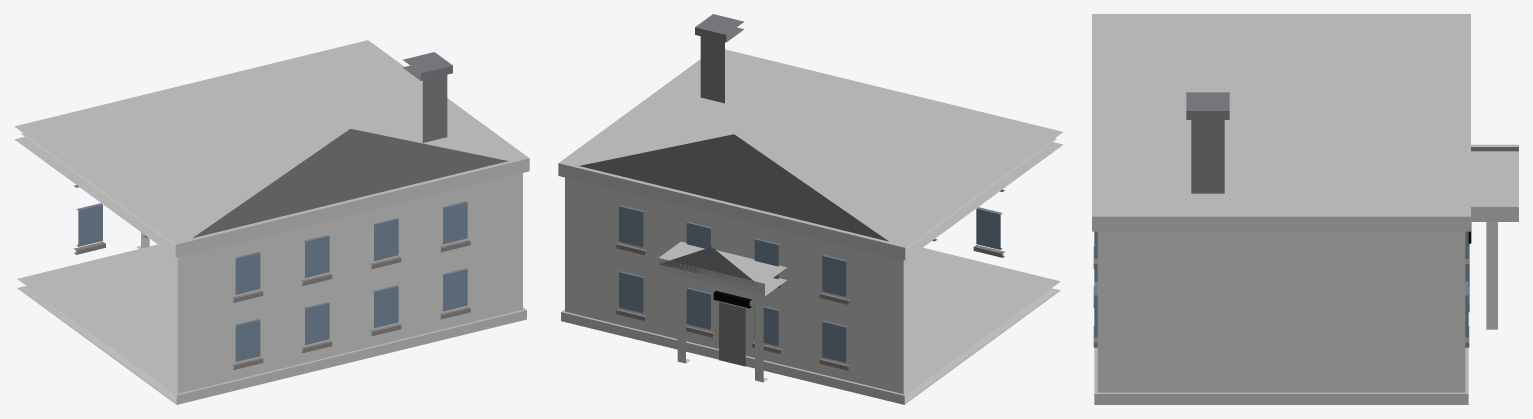
Rendered from colonial_white.glb.
3 views of the same model, side by side, from view 1: azimuth 30°, elevation 25°; view 2: azimuth 150°, elevation 25°; view 3: azimuth 270°, elevation 25° (orthographic). The views are drawn at different scales.
Parts seen in each view (by area): view 1: colonial_white; view 2: colonial_white; view 3: colonial_white.
Part boxes in pixels (<box>): colonial_white: <box>14,40,529,404</box>; colonial_white: <box>558,14,1062,404</box>; colonial_white: <box>1092,14,1518,404</box>.
Bounding box in the file's own units: 14.34 × 9.05 × 12.77.
